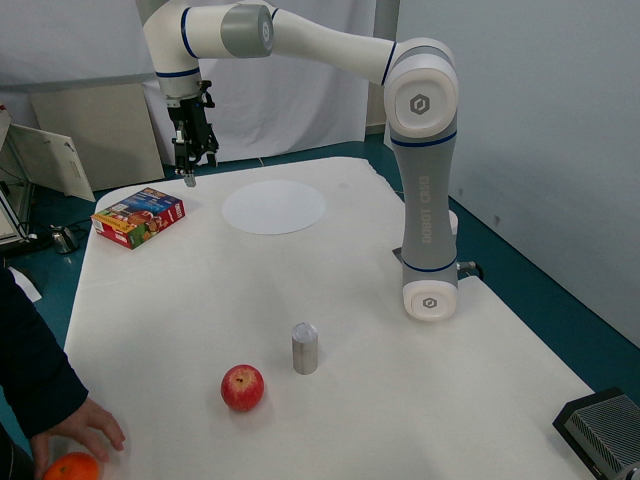apple: (216, 355, 268, 415)
metalROD: (287, 315, 325, 377)
